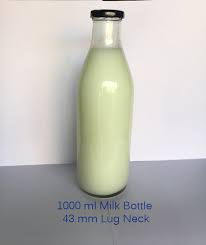milk: (62, 5, 144, 200)
